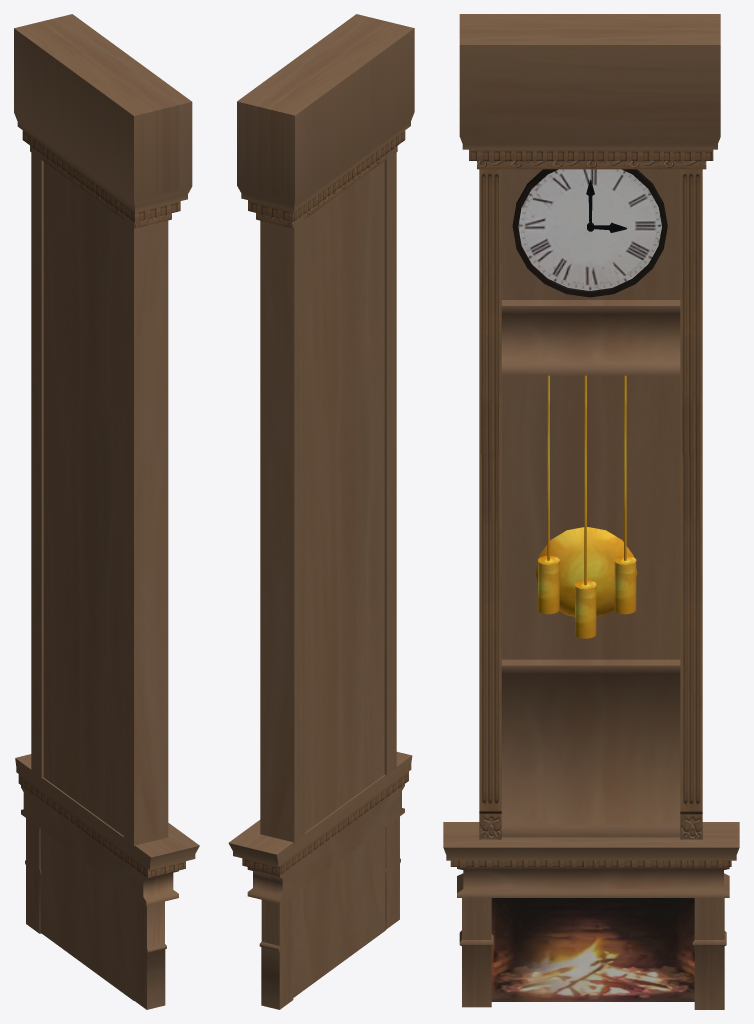
File: watch.fbx
3 views of the same model, side by side, from view 1: azimuth 30°, elevation 25°; view 2: azimuth 150°, elevation 25°; view 3: azimuth 270°, elevation 25° (orthographic). The views are drawn at different scales.
Visible parts, largest first — view 1: pasted__polySurface610, pasted__pCube877; view 2: pasted__polySurface610, pasted__pCube877; view 3: pasted__polySurface610, pasted__pCube962, pasted__pCylinder55, pasted__pCylinder62, pasted__polySurface612, pasted__polySurface613, pasted__polySurface611.
Boxes of the visible parts, <box> form: pasted__polySurface610: <box>14,14,199,1009</box>; pasted__pCube877: <box>40,828,133,1000</box>; pasted__polySurface610: <box>228,14,414,1009</box>; pasted__pCube877: <box>293,827,385,997</box>; pasted__polySurface610: <box>443,14,739,1009</box>; pasted__pCube962: <box>491,898,694,1001</box>; pasted__pCylinder55: <box>512,169,667,297</box>; pasted__pCylinder62: <box>535,527,637,616</box>; pasted__polySurface612: <box>575,375,596,638</box>; pasted__polySurface613: <box>614,375,636,614</box>; pasted__polySurface611: <box>538,375,559,614</box>.
Size of the model in its own units: 58.37 by 860 by 236.
2 materials, 2 textured.
